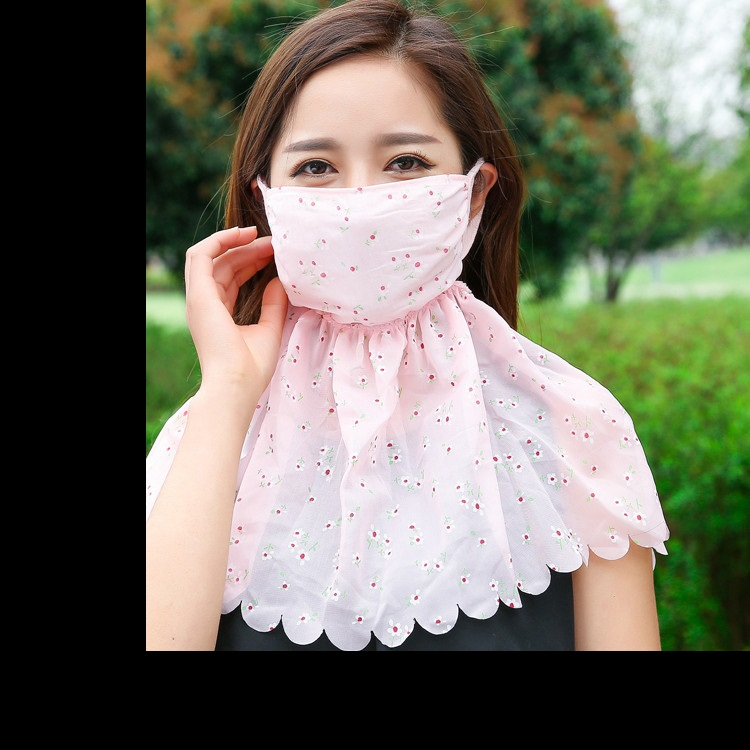face_mask: (265, 57, 469, 322)
